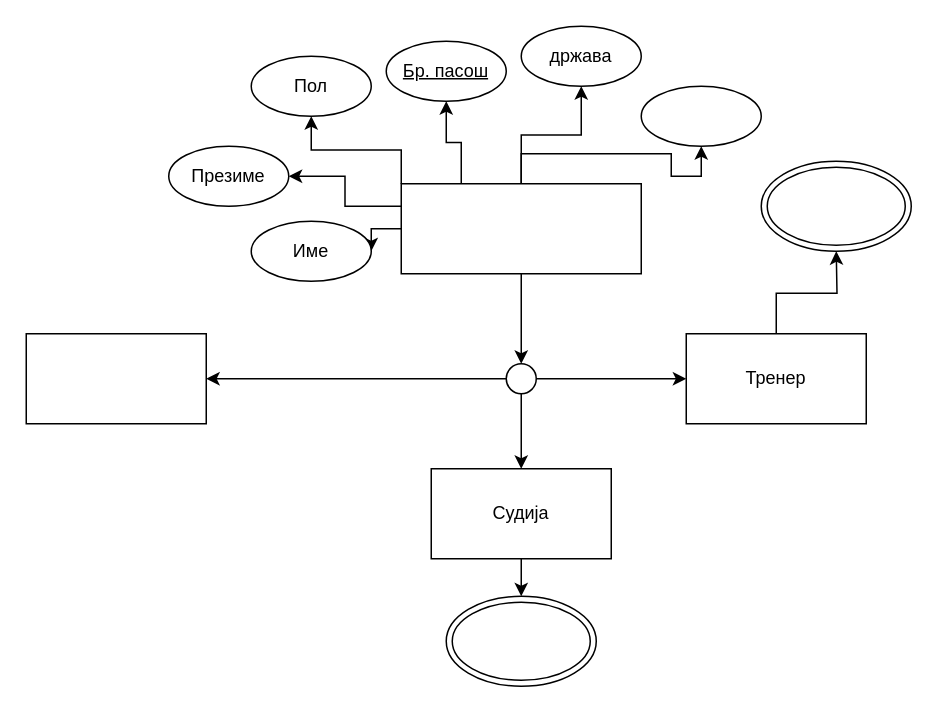
Some shapes in this 938 by 713 pixel diagram are drawn without their labels. The shapes that lost their labels are listed below. From the top down, each one's centre as x and y in pixels, then its label:
(x=835, y=205): играчи на кои бил тренер
(x=520, y=228): Учесник
(x=115, y=378): Играч
(x=520, y=640): Искуство
